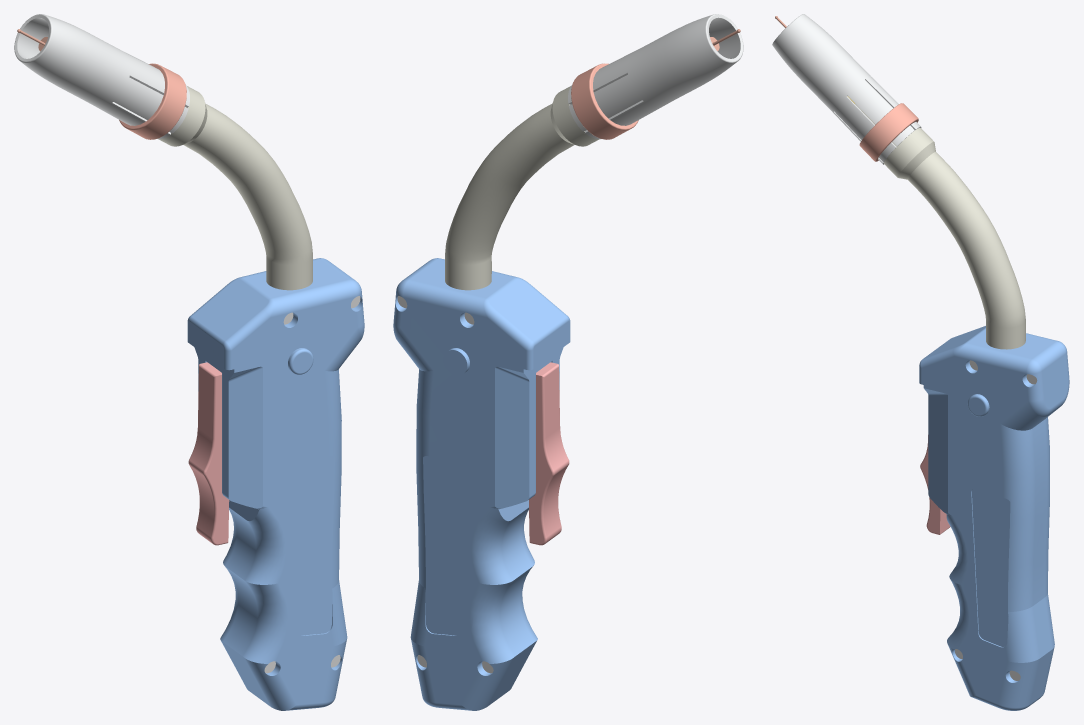
Rendered from tochamig.fbx.
The picture shows the model from 3 angles, left to right: view 1: azimuth 30°, elevation 25°; view 2: azimuth 150°, elevation 25°; view 3: azimuth 330°, elevation 25°; orthographic projection. The views are drawn at different scales.
Parts seen in each view (by area): view 1: Body1, Body3, Body2; view 2: Body1, Body3, Body2; view 3: Body1, Body3, Body2.
Boxes of the visible parts, x1,y1,x2,y2 form: Body1: [158, 86, 364, 710]; Body3: [14, 14, 189, 139]; Body2: [188, 362, 229, 545]; Body1: [393, 86, 599, 710]; Body3: [568, 14, 743, 139]; Body2: [529, 362, 569, 545]; Body1: [847, 96, 1069, 710]; Body3: [772, 14, 921, 164]; Body2: [920, 435, 950, 534].
Size of the model in its own units: 13.89 by 29.67 by 3.4.
